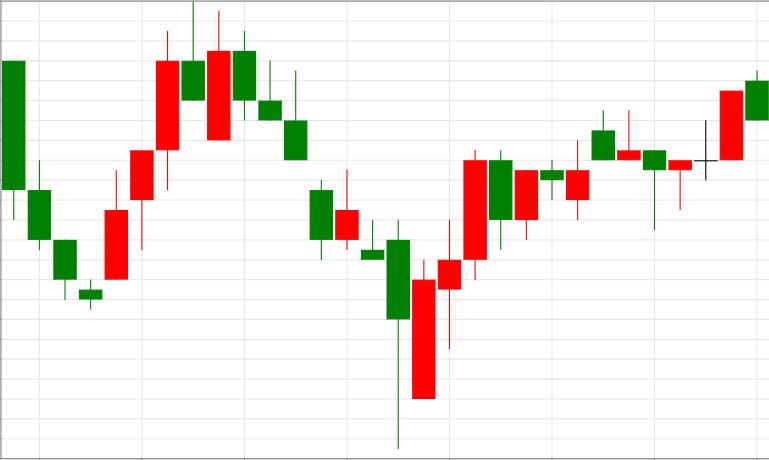inverse_hammer_rise: (233, 31, 359, 260)
morning_star_rise: (1, 61, 128, 311)
three_white_soldiers_rise: (3, 31, 179, 311)
